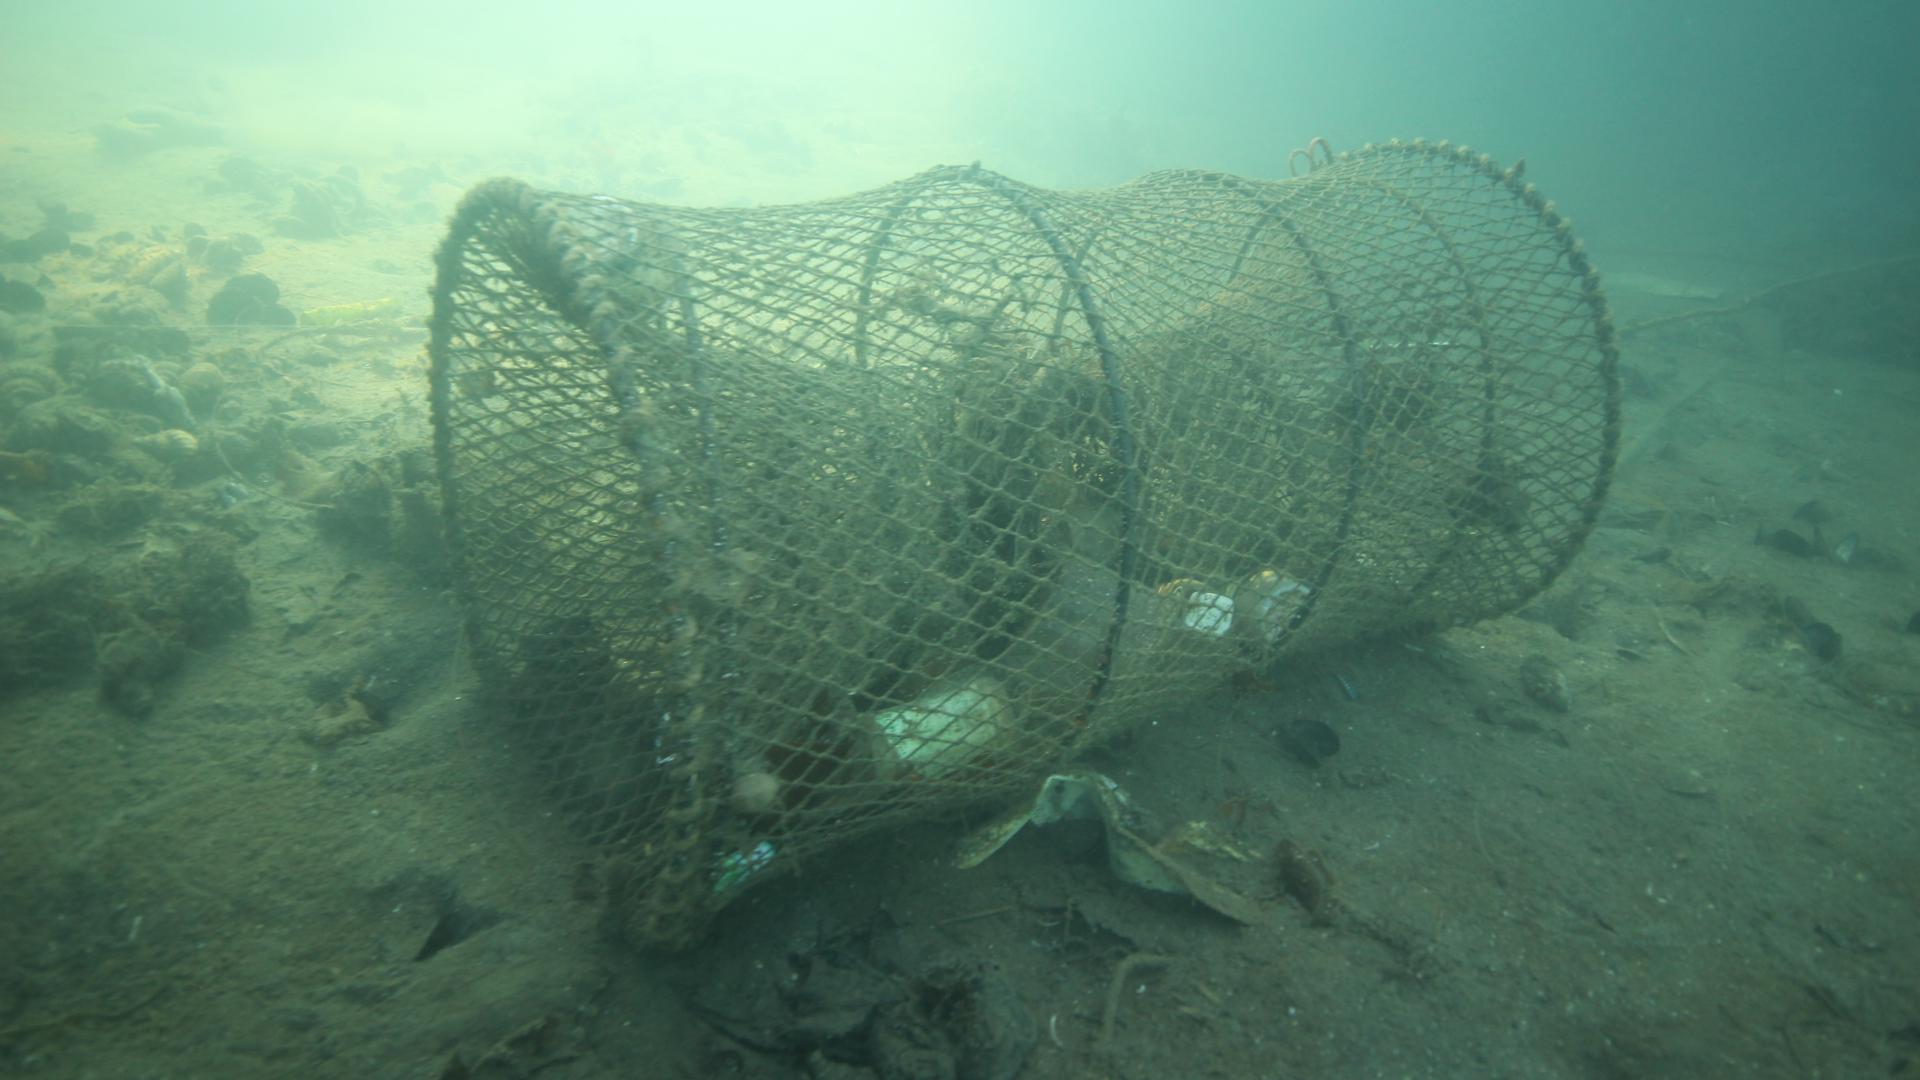spring fish trap: (423, 135, 1625, 953)
